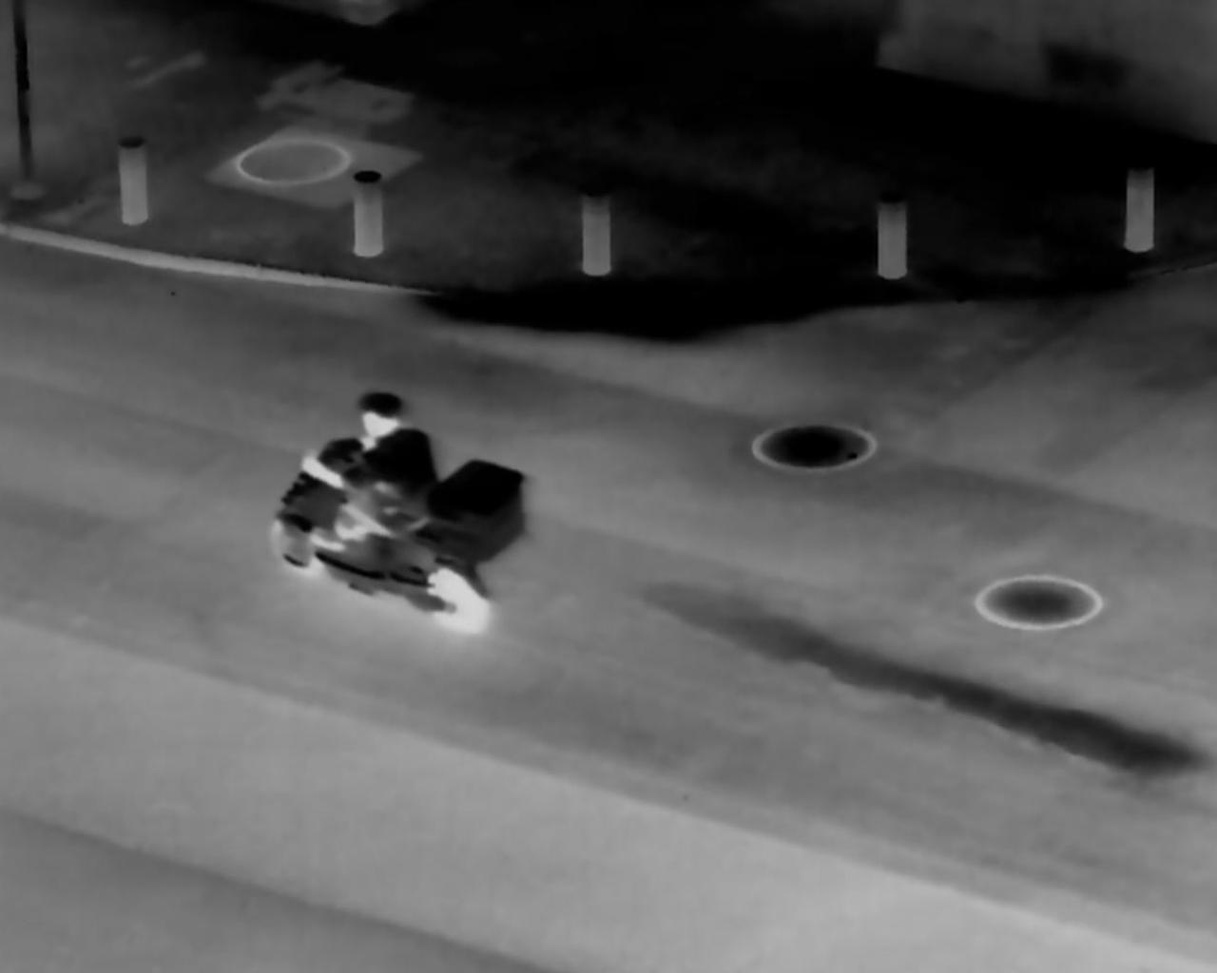person: (309, 361, 432, 613)
